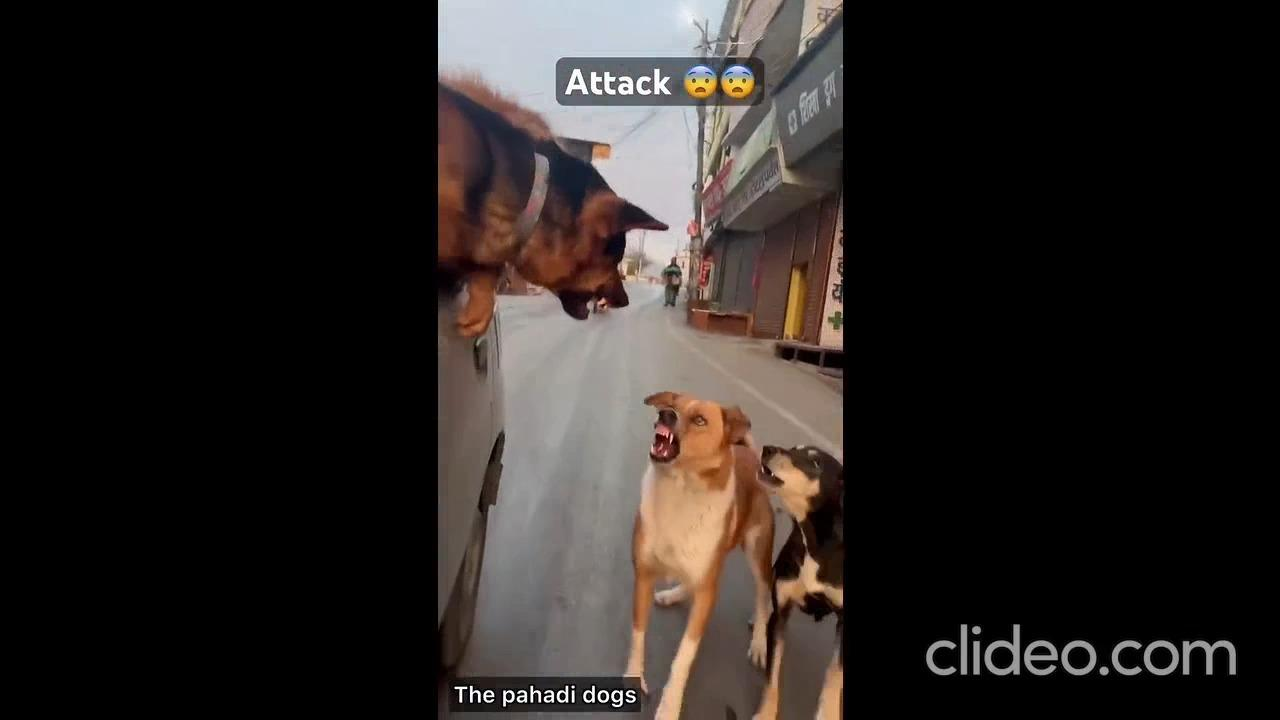dog: (621, 362, 773, 720), (734, 411, 842, 711)
